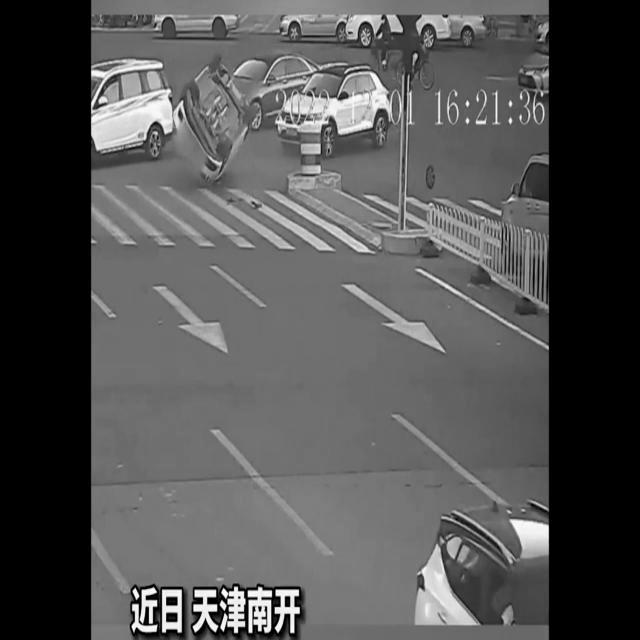accident: (170, 50, 258, 188)
non-accident: (228, 51, 392, 159)
